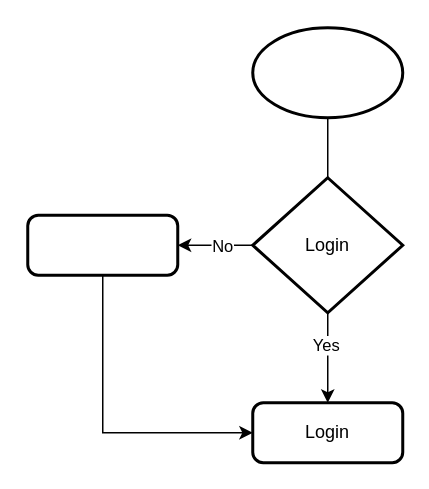
The diagram is 429 pixels wide and 489 high, and some of its shapes have lost their labels. Here are the shapes that lost their labels. From the top down, the centre of each, then its label:
point (327, 72): Start application
point (102, 244): Reset password
